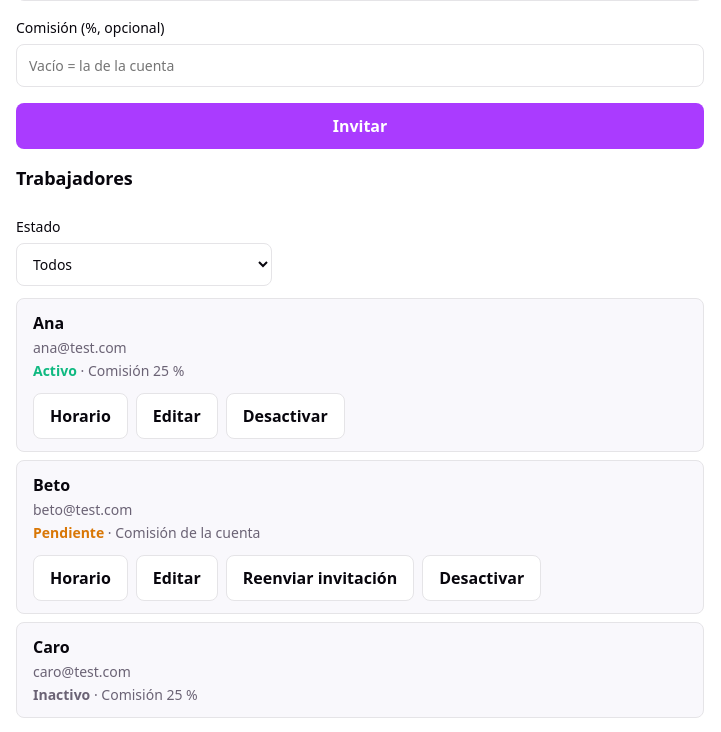
Scenario: RF-12: editar con la comisión vacía envía null
(page scrolled)
Check: the text "Ana" is shown, box [33,312,64,334]
Click the button with aria-label "Editar Ana": {"x": 177, "y": 416} [136,393,218,439]
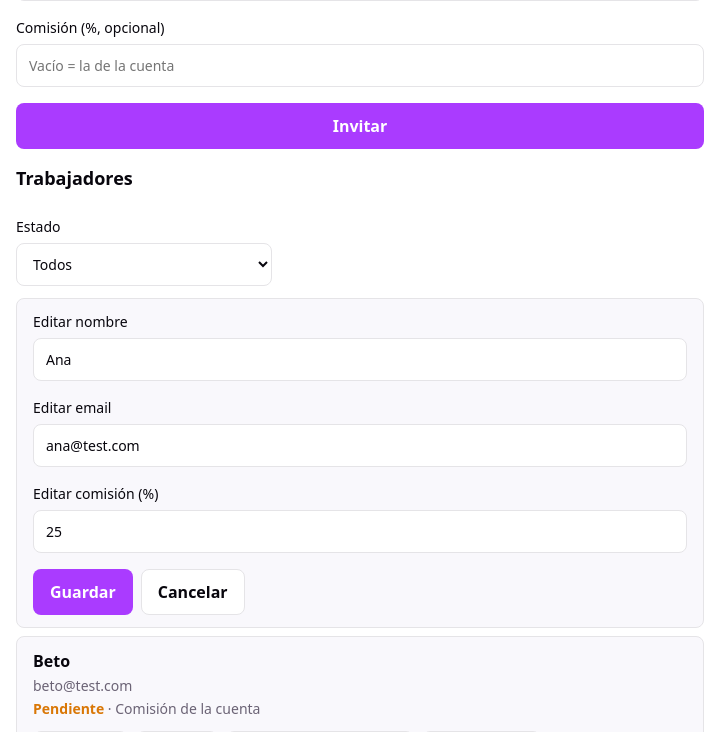
Replace the text in the field labelled "Editar nombre" with "Ana María": {"x": 360, "y": 360} [33,338,687,381]
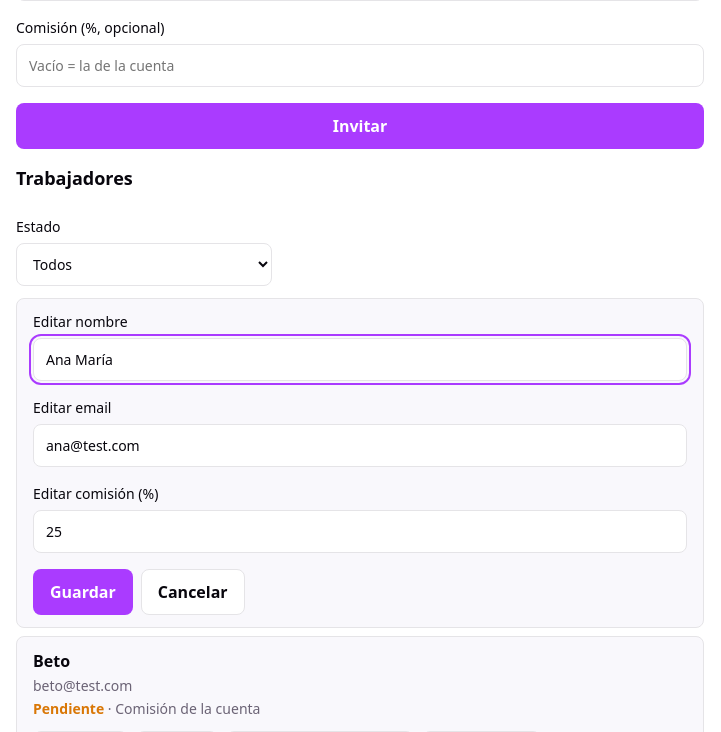
Clear the field labelled "Editar comisión (%)": {"x": 360, "y": 532} [33,510,687,553]
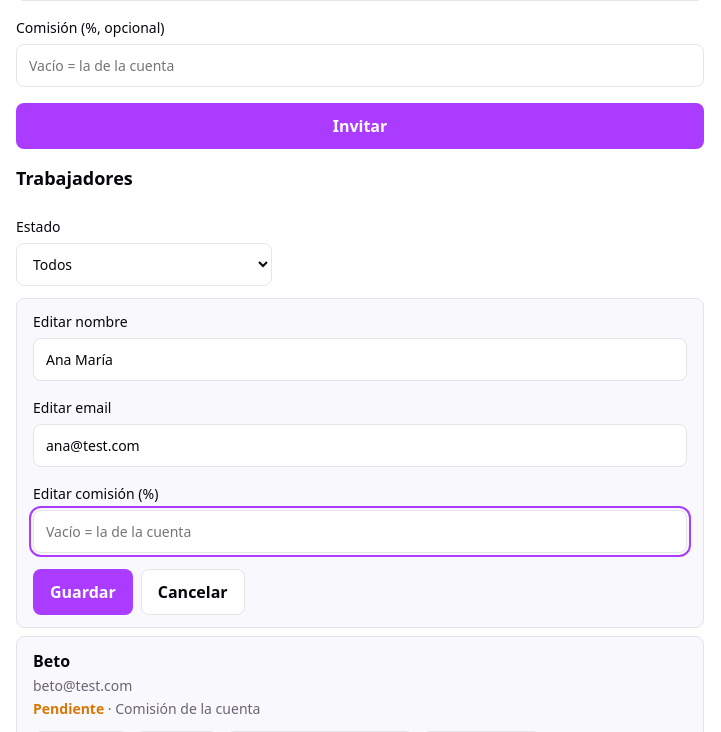
Click the button "Guardar": {"x": 83, "y": 592} [33,569,133,615]
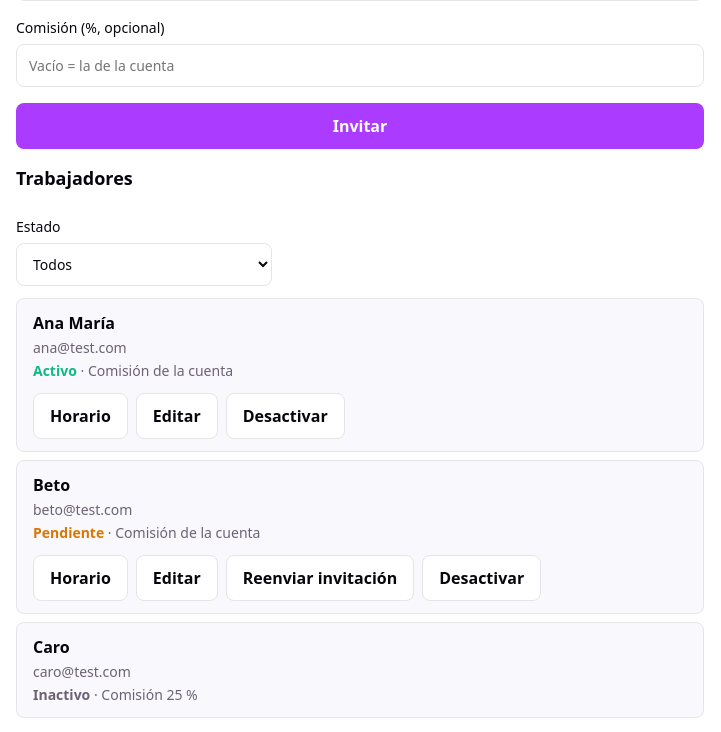
Check: the text "Ana María" is shown, box [33,312,115,334]
